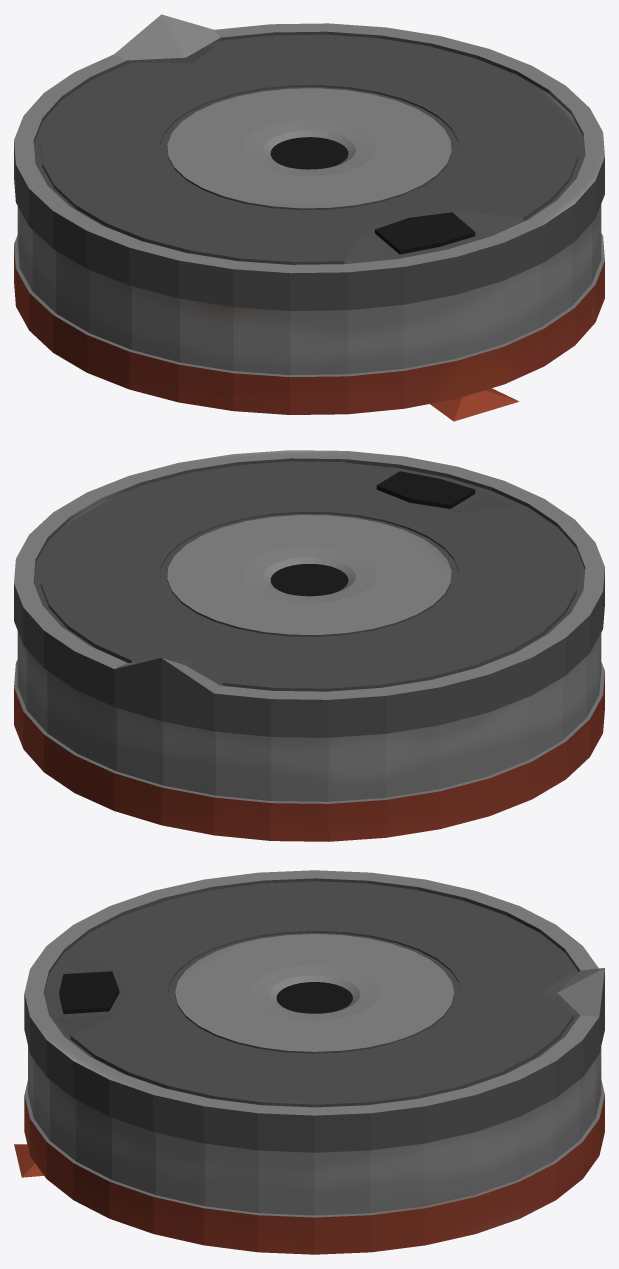
File: RobotMesh-1.fbx
The picture shows the model from 3 angles, top to bottom: view 1: azimuth 30°, elevation 25°; view 2: azimuth 150°, elevation 25°; view 3: azimuth 270°, elevation 25°; orthographic projection. The views are drawn at different scales.
Parts seen in each view (by area): view 1: Cylinder; view 2: Cylinder; view 3: Cylinder.
Boxes of the visible parts, left/top/right/bottom form: Cylinder: left=14, top=14, right=604, bottom=421; Cylinder: left=14, top=450, right=604, bottom=841; Cylinder: left=14, top=870, right=604, bottom=1254.
Size of the model in its own units: 497 by 171 by 506.
